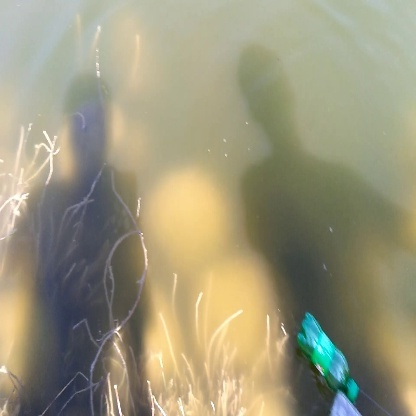bottle: (294, 313, 367, 397)
